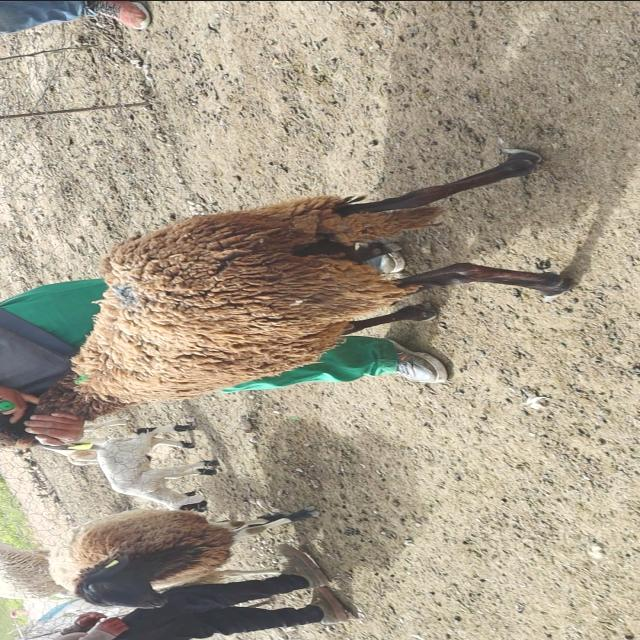Score_1: (0, 150, 571, 446)
